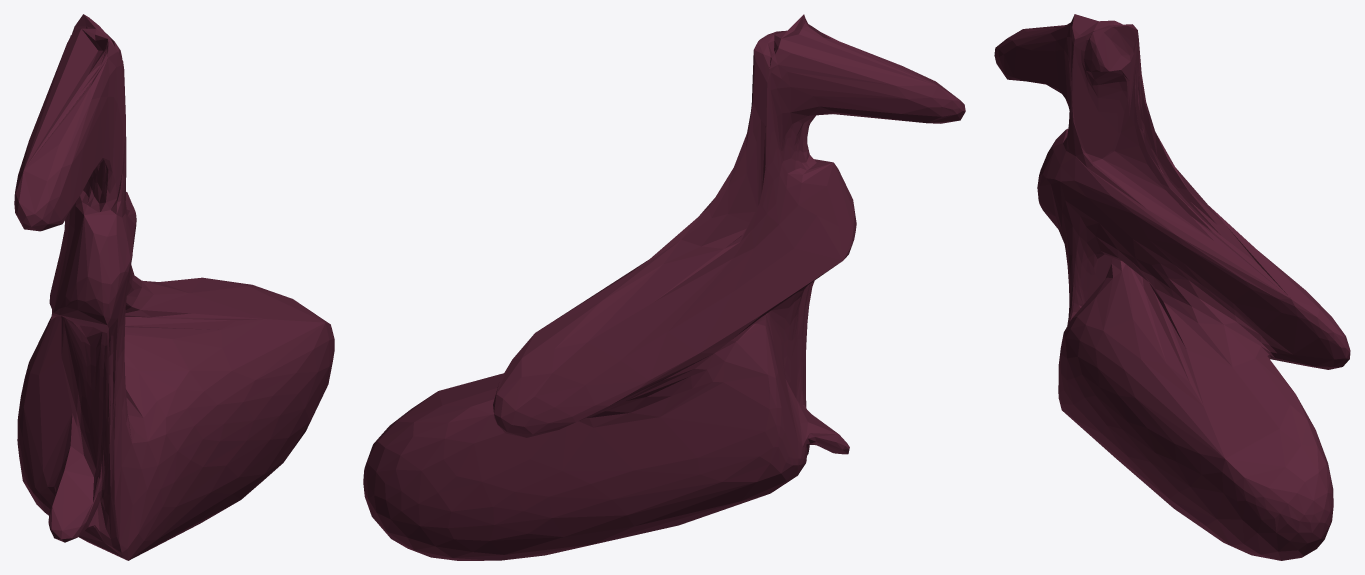
3 renders of one model, left to right at view 1: azimuth 30°, elevation 25°; view 2: azimuth 150°, elevation 25°; view 3: azimuth 270°, elevation 25°, orthographic. The views are drawn at different scales.
Visible parts, largest first — view 1: 286_Cube.1169; view 2: 286_Cube.1169; view 3: 286_Cube.1169.
Part boxes in pixels (left/top/right/bottom): 286_Cube.1169: left=14, top=14, right=334, bottom=560; 286_Cube.1169: left=363, top=14, right=965, bottom=560; 286_Cube.1169: left=994, top=14, right=1350, bottom=560.
Size of the model in its own units: 12.82 by 14.75 by 10.71.
